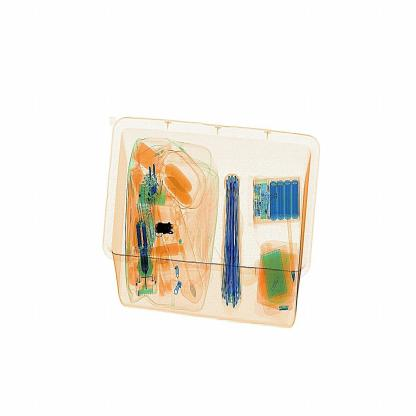scissors: (148, 216, 183, 239)
